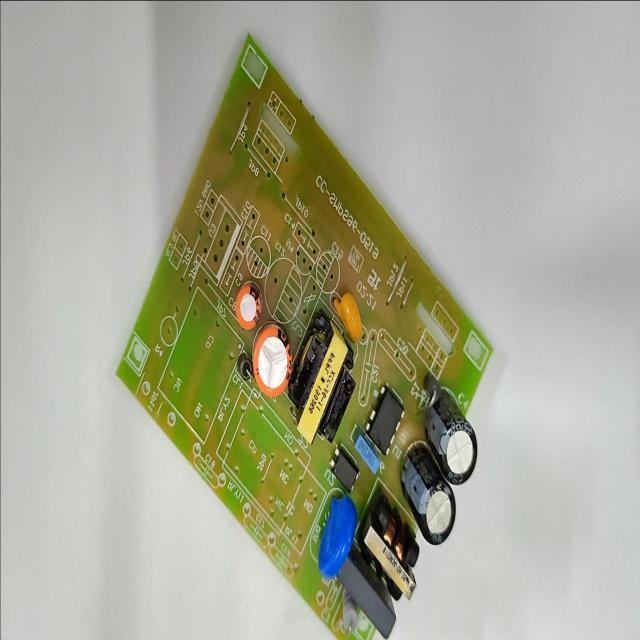Cap1: (252, 318, 294, 402)
Cap2: (233, 278, 261, 334)
Cap3: (396, 441, 460, 549)
Cap4: (421, 382, 480, 487)
MOSFET: (362, 380, 406, 459)
Mov: (315, 487, 358, 583)
Resistor: (339, 590, 359, 636)
Transformer: (288, 307, 358, 446), (354, 498, 423, 607)
